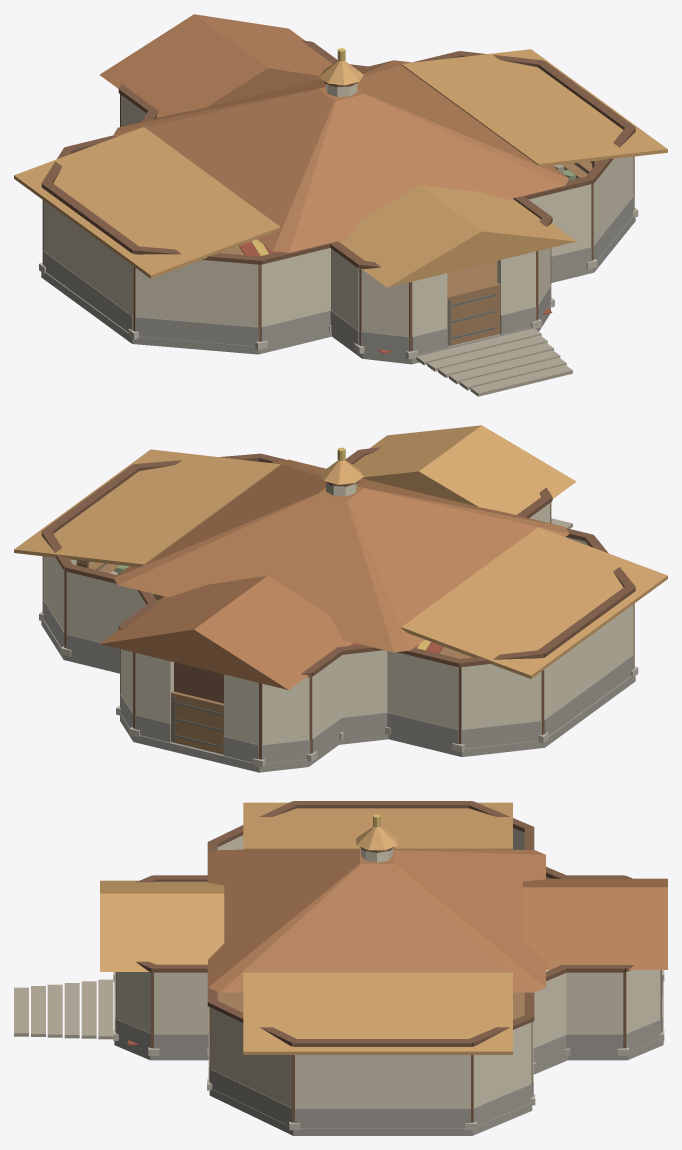
File: holm_guide_hall_v4.glb
The picture shows the model from 3 angles, top to bottom: view 1: azimuth 30°, elevation 25°; view 2: azimuth 150°, elevation 25°; view 3: azimuth 270°, elevation 25°; orthographic projection.
Visible parts, largest first — view 1: Roof_Russet_Roof, Roof_Roof_Highlight, Static_Warm_Plaster, Static_Stone, Static_Dark_Timber, Static_Path_Stone, front_door_Furnishing_Wood, Static_Furnishing_Wood, Static_Stone_Light; view 2: Roof_Russet_Roof, Roof_Roof_Highlight, Static_Warm_Plaster, Static_Stone, Static_Dark_Timber, teaching_door_Furnishing_Wood, Static_Stone_Light, teaching_door_Iron; view 3: Roof_Russet_Roof, Roof_Roof_Highlight, Static_Warm_Plaster, Static_Stone, Static_Dark_Timber, Static_Path_Stone, Static_Stone_Light, Static_Furnishing_Wood.
Boxes of the visible parts, x1,y1,x2,y2 form: Roof_Russet_Roof: [99, 14, 569, 252]; Roof_Roof_Highlight: [14, 49, 667, 287]; Static_Warm_Plaster: [43, 95, 633, 336]; Static_Stone: [41, 163, 635, 364]; Static_Dark_Timber: [41, 40, 635, 351]; Static_Path_Stone: [416, 328, 572, 396]; front_door_Furnishing_Wood: [447, 283, 500, 346]; Static_Furnishing_Wood: [220, 246, 497, 295]; Static_Stone_Light: [39, 208, 638, 359]; Roof_Russet_Roof: [99, 459, 569, 689]; Roof_Roof_Highlight: [14, 425, 667, 678]; Static_Warm_Plaster: [43, 503, 633, 744]; Static_Stone: [41, 563, 635, 772]; Static_Dark_Timber: [41, 447, 635, 759]; teaching_door_Furnishing_Wood: [171, 691, 223, 754]; Static_Stone_Light: [39, 611, 638, 767]; teaching_door_Iron: [172, 696, 221, 747]; Roof_Russet_Roof: [208, 849, 667, 992]; Roof_Roof_Highlight: [100, 802, 512, 1054]; Static_Warm_Plaster: [115, 828, 661, 1108]; Static_Stone: [114, 970, 663, 1135]; Static_Dark_Timber: [116, 801, 661, 1122]; Static_Path_Stone: [14, 979, 113, 1039]; Static_Stone_Light: [113, 970, 664, 1130]; Static_Furnishing_Wood: [217, 992, 524, 1019].
Size of the model in its own units: 25.1 by 9.35 by 27.87.
